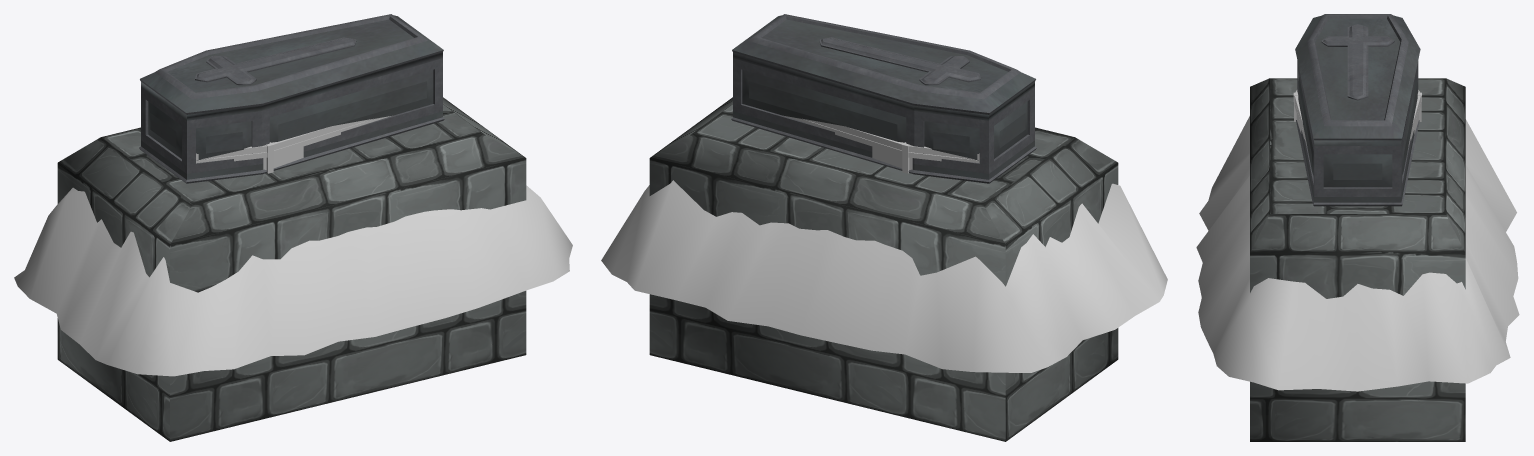
The model's file is coffin.fbx.
3 views of the same model, side by side, from view 1: azimuth 30°, elevation 25°; view 2: azimuth 150°, elevation 25°; view 3: azimuth 270°, elevation 25° (orthographic). The views are drawn at different scales.
Visible parts, largest first — view 1: base, Plane, box.001, box, lid; view 2: base, Plane, box.001, box, lid; view 3: Plane, base, box.001.
Boxes of the visible parts, box(x1,y1,x2,y2) form: base: box(57, 97, 526, 441); Plane: box(14, 185, 572, 376); box.001: box(139, 14, 444, 183); box: box(196, 116, 390, 173); lid: box(196, 118, 373, 159); base: box(649, 97, 1118, 441); Plane: box(601, 180, 1167, 372); box.001: box(731, 14, 1036, 183); box: box(783, 115, 979, 173); lid: box(802, 118, 979, 159); Plane: box(1196, 116, 1519, 391); base: box(1250, 78, 1465, 441); box.001: box(1295, 14, 1420, 206).
Bounding box in the file's own units: 266 × 264 × 435.
